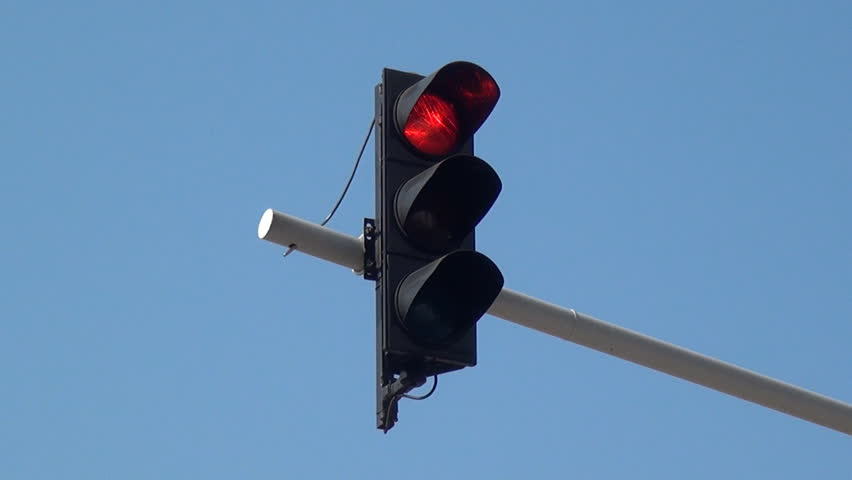traffic light: (311, 28, 541, 467)
